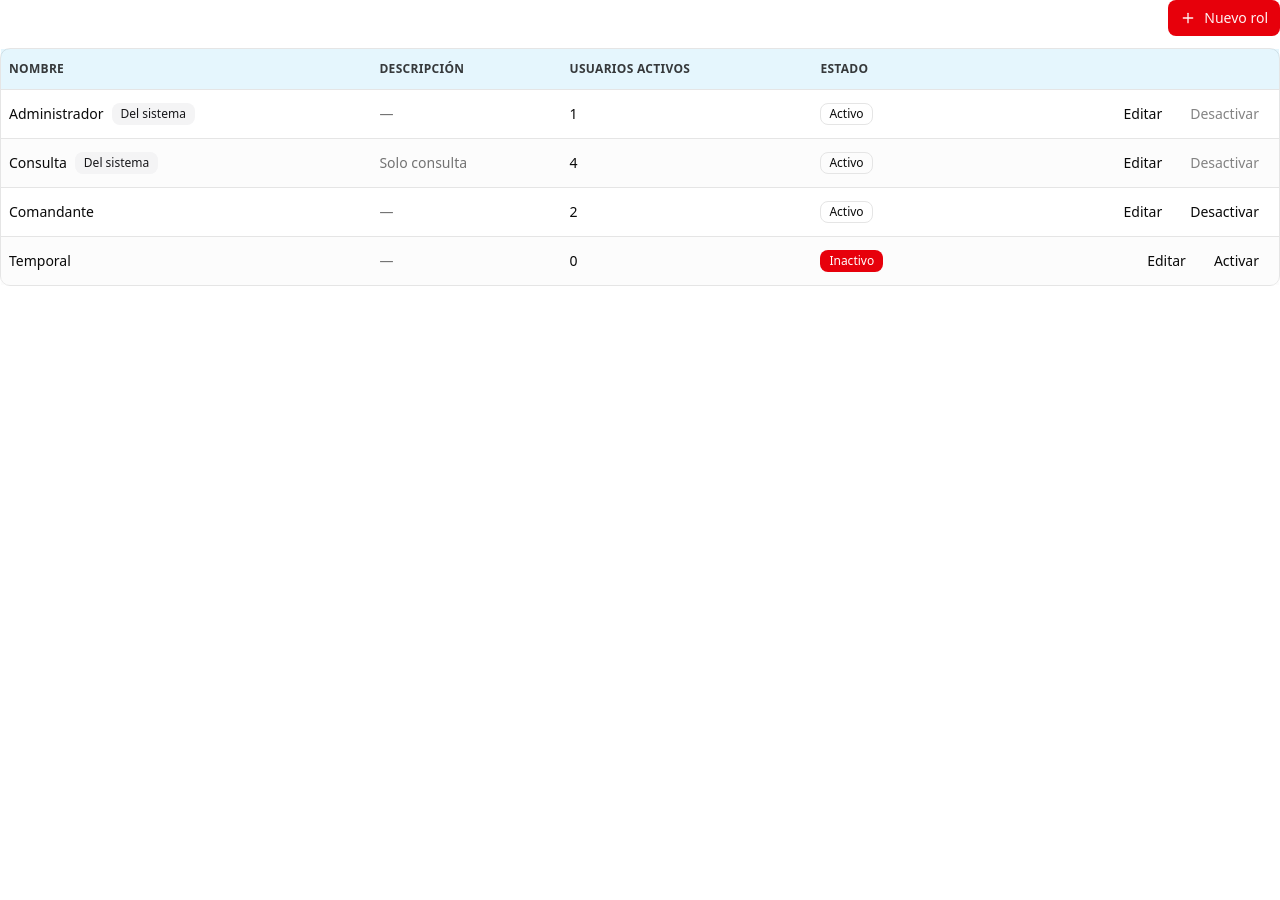
Test: RolesTab (US4, FR-013) › edita nombre y descripción
Later steps or results of the test are not shown.
Expected: the row "Comandante — 2 Activo Editar Desactivar" is shown, [1,187,1279,236]
Step 1. Click the button with aria-label "Editar Comandante" → [1143, 212], box [1112,196,1174,228]
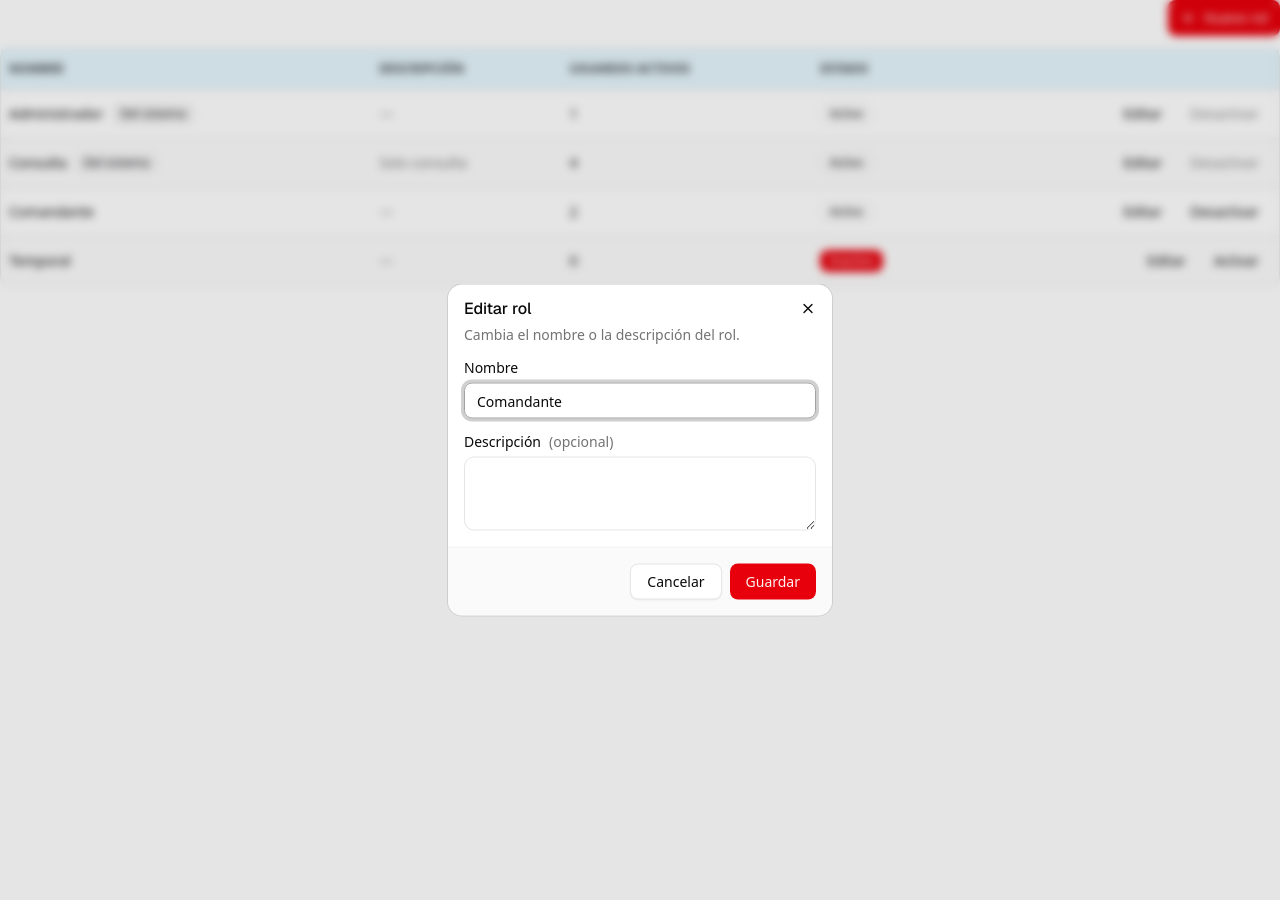
Expected: the field labelled "Nombre" holds "Comandante", [464,382,816,418]
